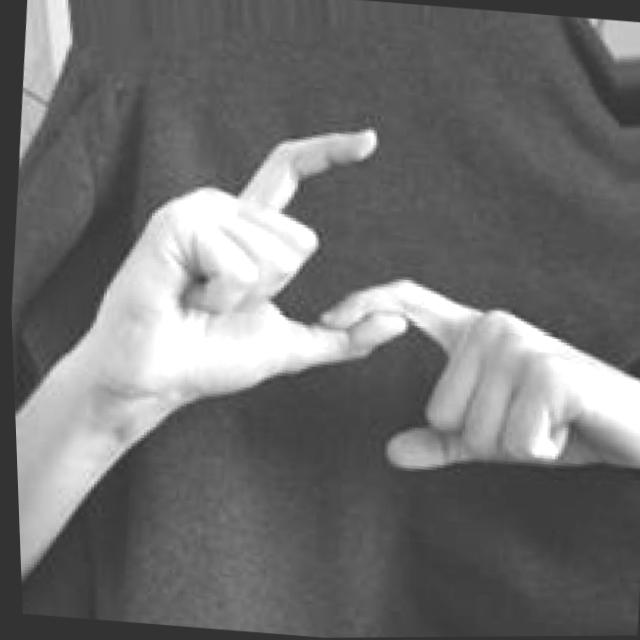S: (3, 85, 640, 494)
